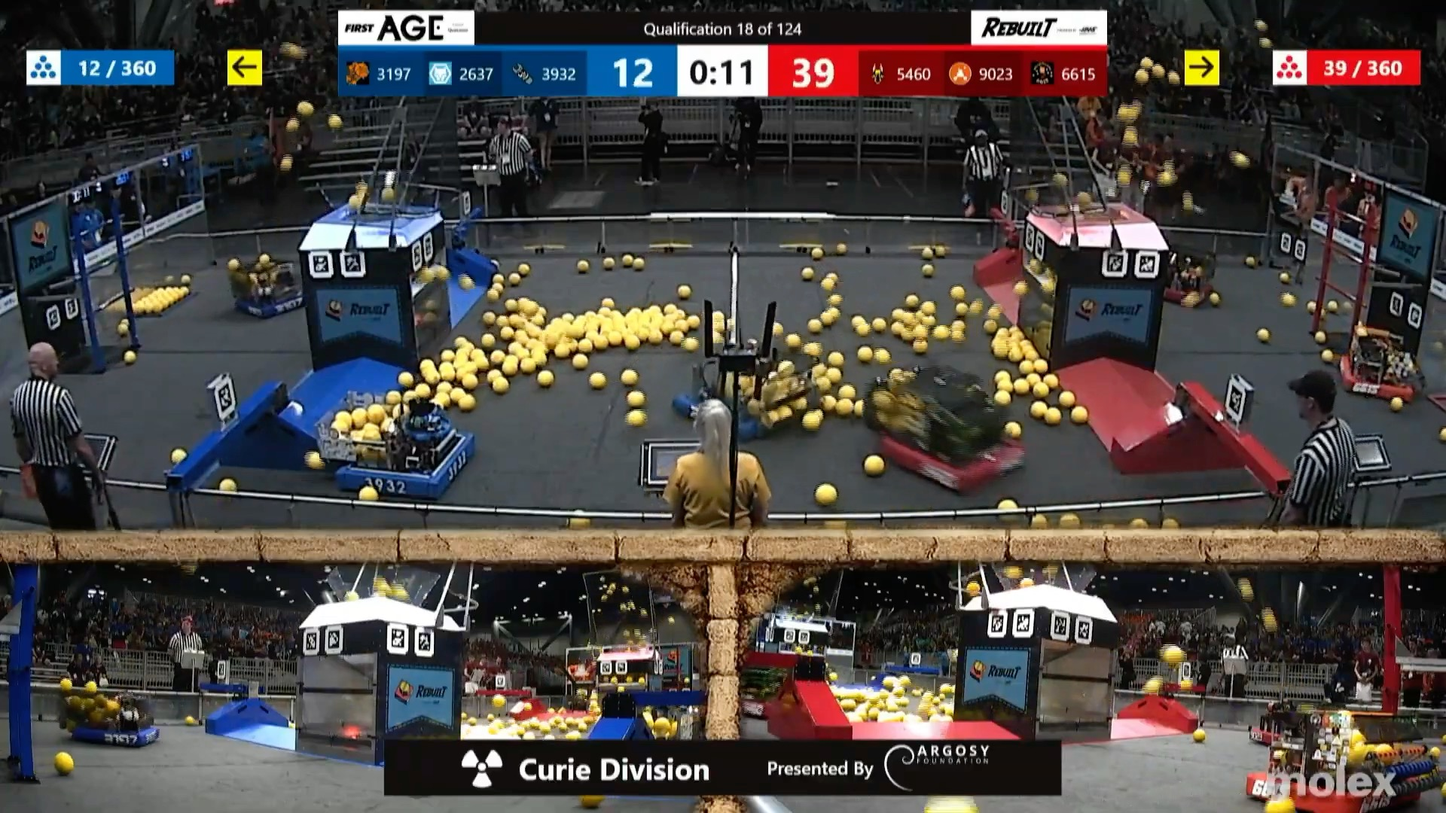bumpers: (1240, 760, 1431, 812), (332, 435, 479, 499), (869, 434, 1030, 490), (670, 388, 826, 434), (1320, 355, 1423, 411), (69, 711, 173, 754), (1250, 721, 1335, 759), (227, 288, 321, 319), (1152, 281, 1221, 308)
